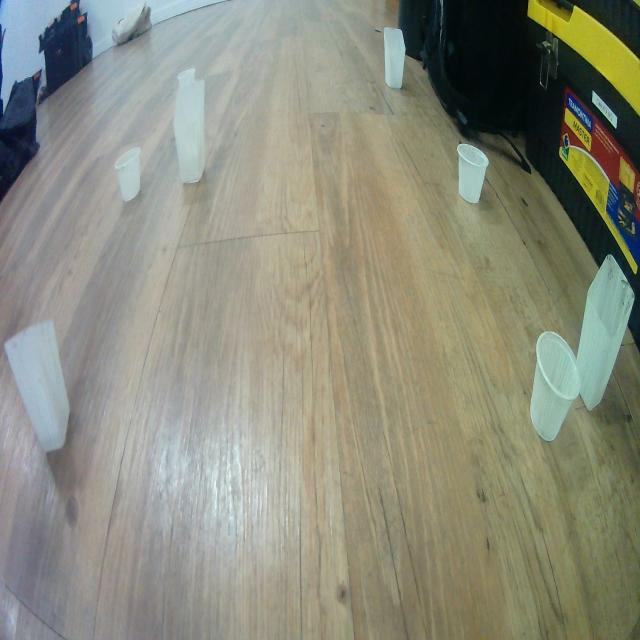erva_daninha: (575, 254, 635, 412), (4, 318, 72, 455), (172, 79, 206, 185), (383, 26, 406, 90)
planta: (529, 330, 582, 442), (456, 142, 489, 204), (114, 147, 143, 203), (176, 66, 196, 98)
